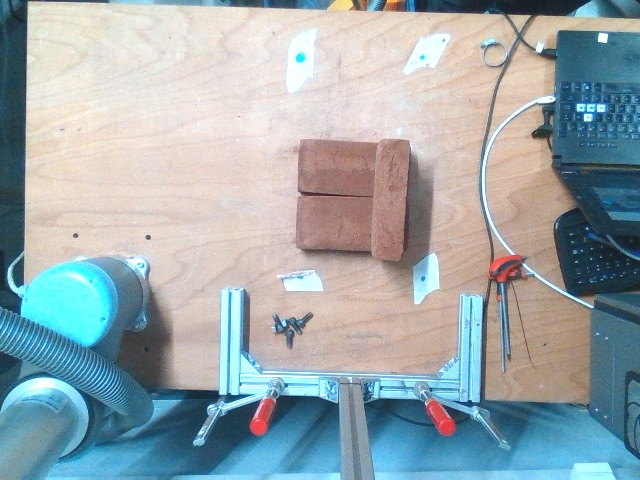brick-side: (370, 143, 410, 257)
